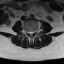CCS_normal: (30, 29, 31, 38)
LFS_normal: (33, 28, 35, 34)
LLS_normal: (31, 29, 33, 36)
RFS_normal: (26, 29, 28, 35)
RLS_normal: (28, 29, 30, 35)
